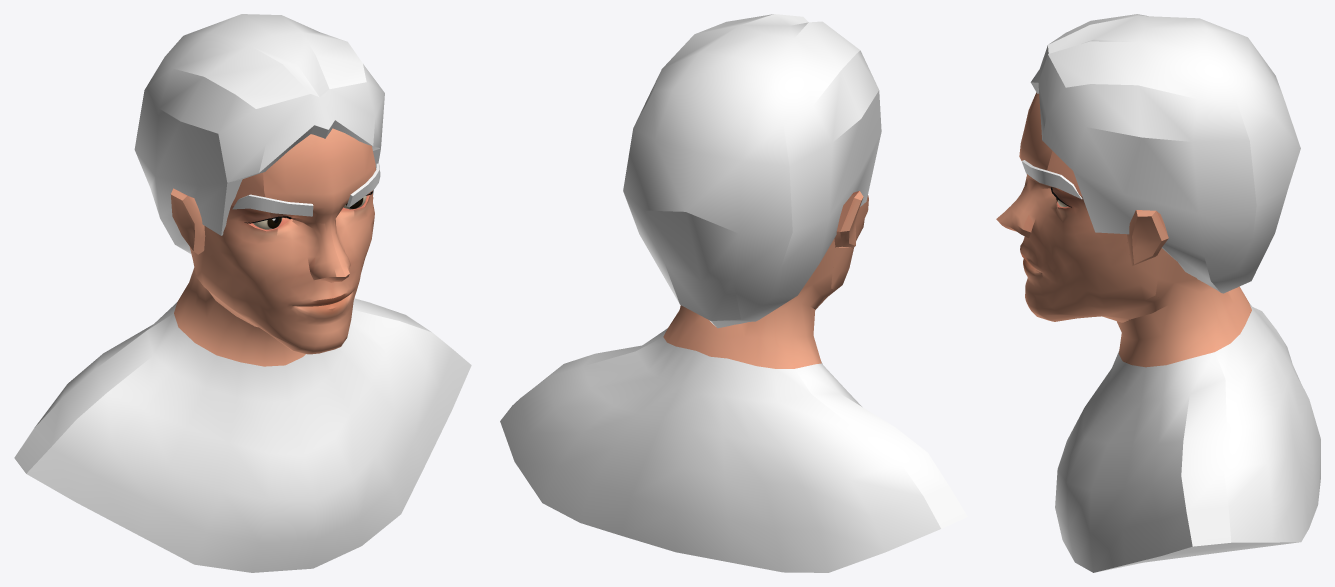
File: Male_Avatar_1.fbx
The picture shows the model from 3 angles, left to right: view 1: azimuth 30°, elevation 25°; view 2: azimuth 150°, elevation 25°; view 3: azimuth 270°, elevation 25°; orthographic projection. The views are drawn at different scales.
Parts seen in each view (by area): view 1: Male Head, Male Hair, Eyebrow.001; view 2: Male Head, Male Hair; view 3: Male Head, Male Hair, Eyebrow.001.
Boxes of the visible parts, left/top/right/bottom form: Male Head: left=14, top=128, right=471, bottom=572; Male Hair: left=134, top=14, right=384, bottom=253; Eyebrow.001: left=232, top=163, right=380, bottom=216; Male Head: left=500, top=191, right=967, bottom=572; Male Hair: left=623, top=14, right=881, bottom=328; Male Head: left=996, top=92, right=1320, bottom=572; Male Hair: left=1030, top=14, right=1300, bottom=293; Eyebrow.001: left=1021, top=160, right=1082, bottom=199.
Bounding box in the file's own units: 51.65 × 55.75 × 32.06.
3 materials, 1 textured.
